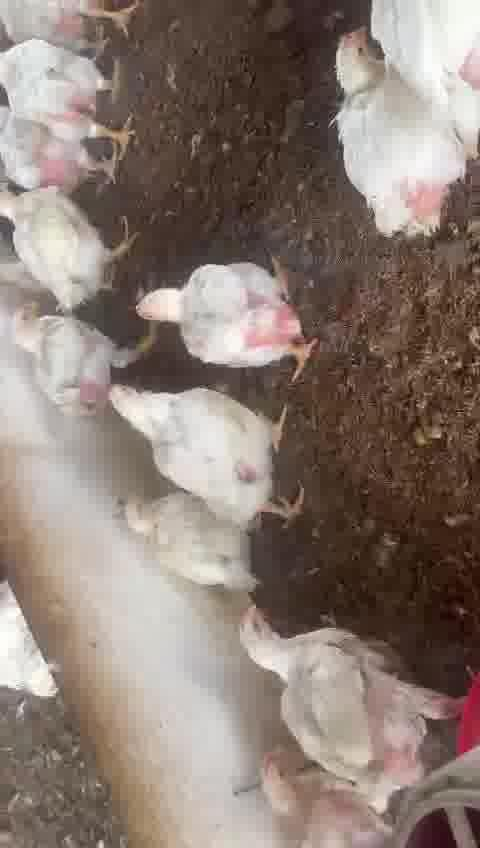AbNormal: (112, 491, 262, 600), (254, 743, 398, 848)
Normal: (228, 586, 472, 768), (98, 372, 313, 527), (323, 18, 464, 240), (123, 270, 330, 374), (0, 186, 141, 324), (10, 305, 138, 416), (0, 102, 134, 198), (1, 40, 145, 122)
